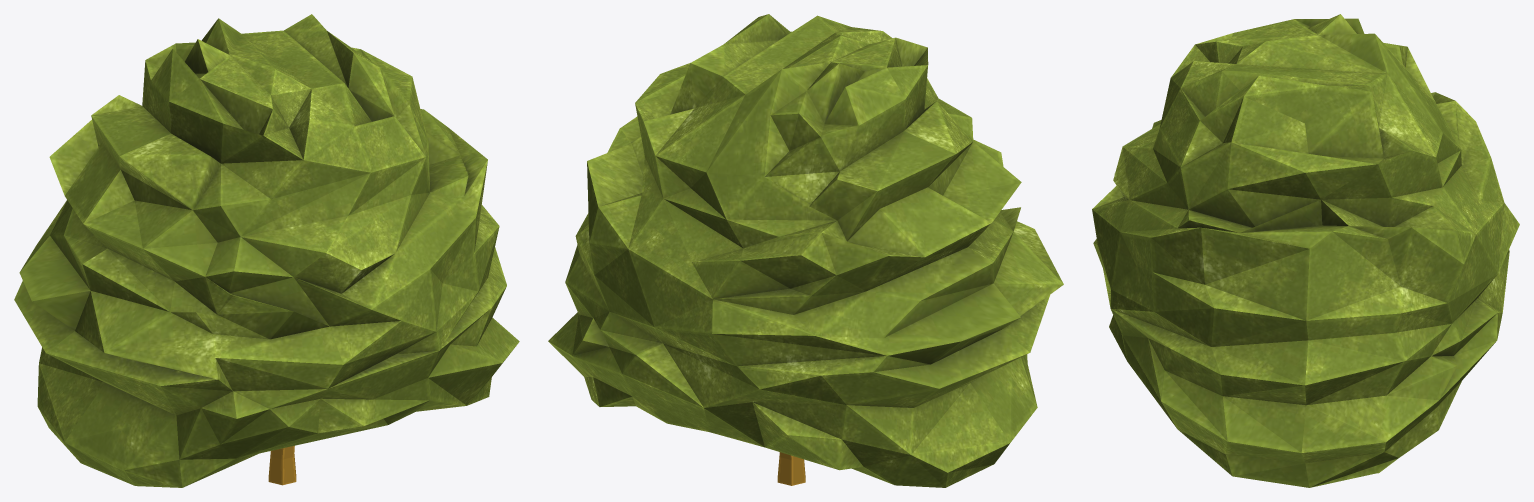
File: SycamoreTree.gltf
3 views of the same model, side by side, from view 1: azimuth 30°, elevation 25°; view 2: azimuth 150°, elevation 25°; view 3: azimuth 270°, elevation 25° (orthographic). The views are drawn at different scales.
Parts seen in each view (by area): view 1: node-0; view 2: node-0; view 3: node-0.
Part boxes in pixels (x1,y1,x2,y2): node-0: (14,14,519,487); node-0: (548,14,1063,487); node-0: (1092,14,1519,487).
Bounding box in the file's own units: 13.93 × 13.07 × 12.1.
Materials: 1 (1 with a texture image).
